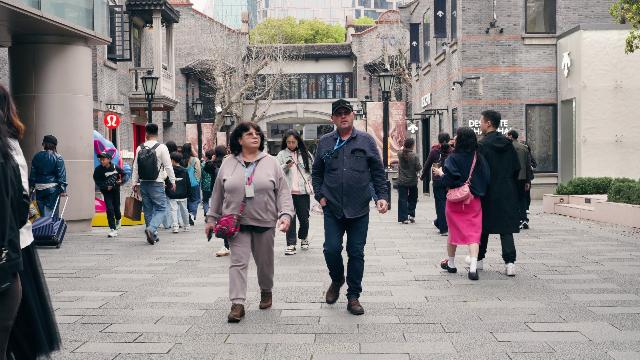person: (205, 122, 295, 322), (311, 99, 389, 315), (464, 110, 522, 276), (431, 126, 490, 280), (131, 123, 176, 245), (275, 129, 315, 255), (420, 132, 455, 236), (29, 135, 68, 217), (203, 144, 230, 256), (93, 151, 127, 238), (506, 129, 531, 230), (165, 152, 193, 234), (396, 138, 422, 224), (199, 149, 215, 223)
